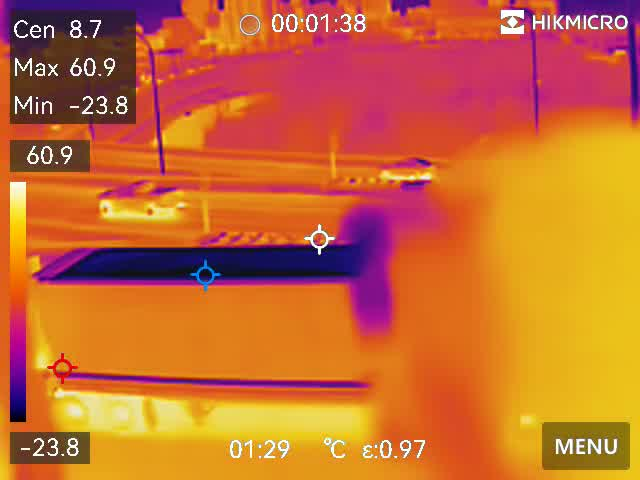heavyTruck: (33, 241, 400, 425)
vehicle: (81, 174, 191, 227), (371, 151, 437, 186)
